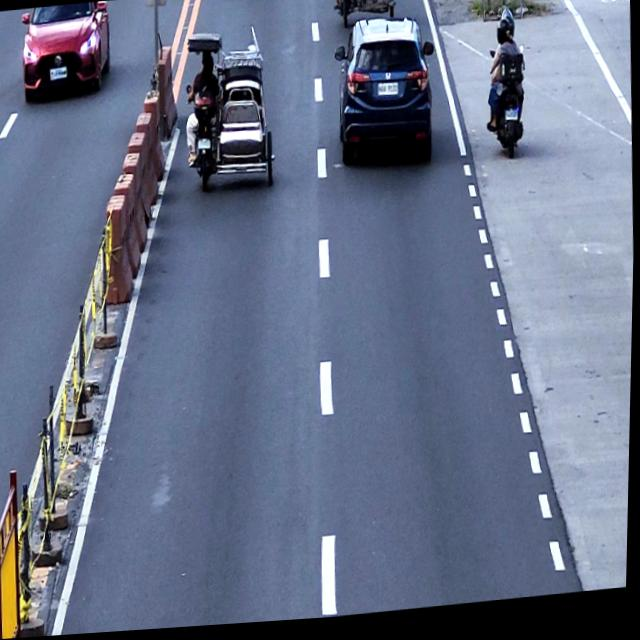Car: (331, 16, 439, 171), (19, 1, 112, 102)
License-Plate: (377, 86, 399, 102), (50, 67, 68, 81), (505, 114, 519, 128), (198, 141, 212, 152)
Motorcycle: (486, 51, 529, 167)
Tricycle: (182, 26, 279, 198), (334, 0, 397, 34)
